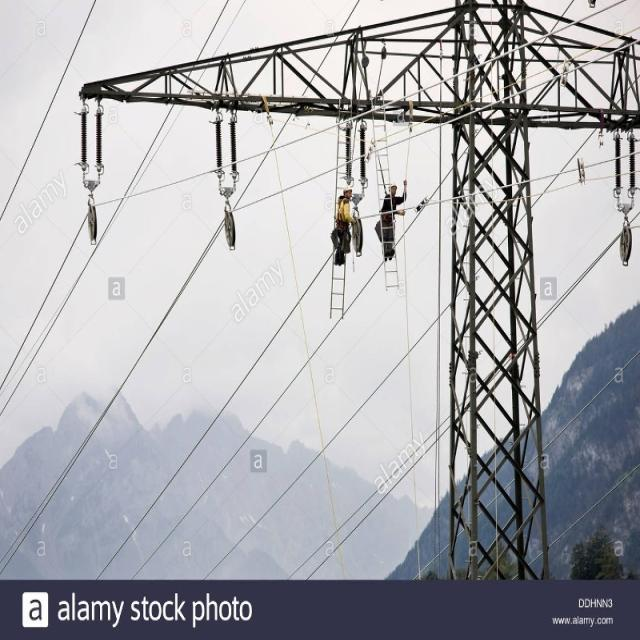non-critical vegetation: (104, 19, 611, 558)
